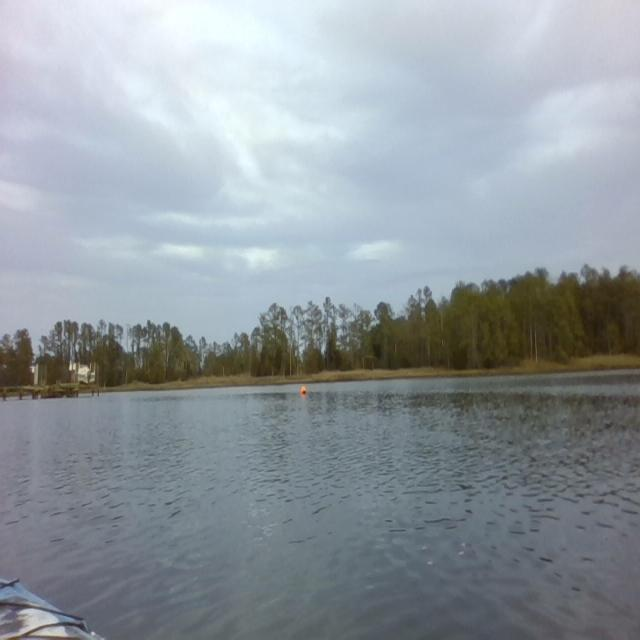Buoy: (301, 378, 308, 400)
